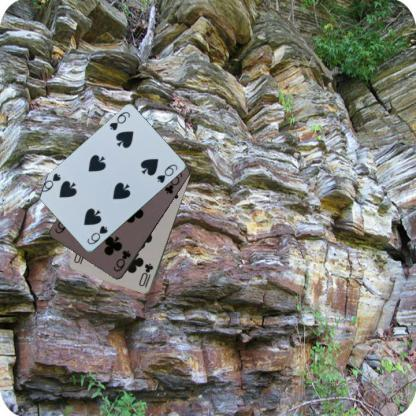10c: (136, 260, 154, 289)
6c: (111, 248, 132, 273)
6s: (84, 223, 110, 246), (107, 110, 131, 132)
